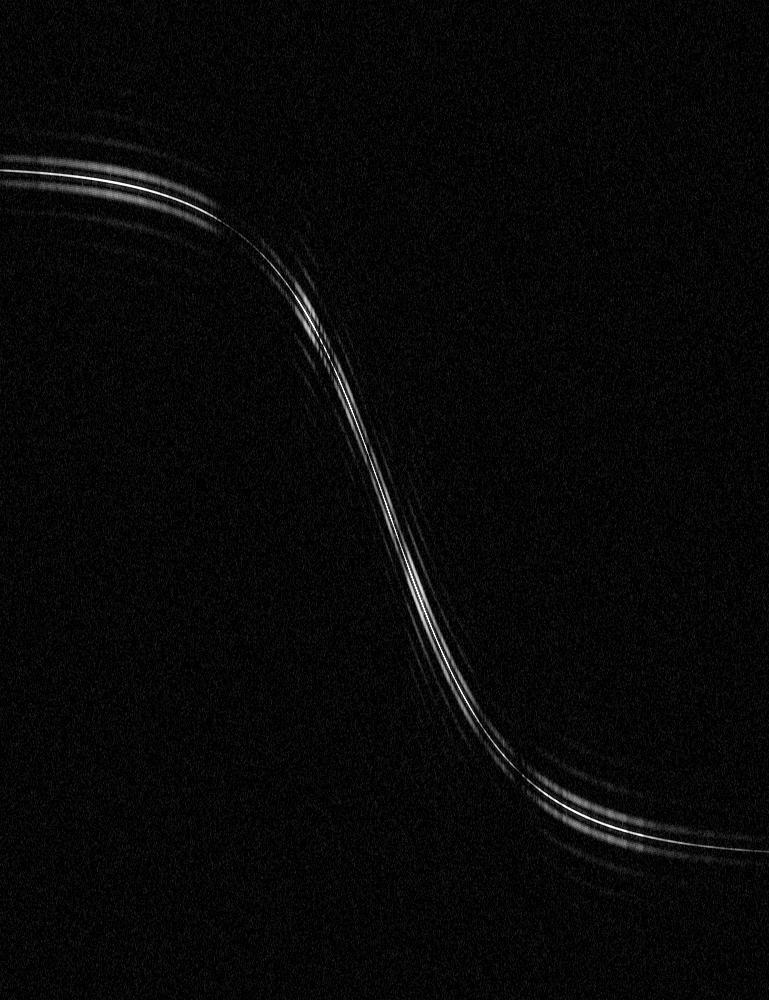signal: (0, 0, 768, 999)
